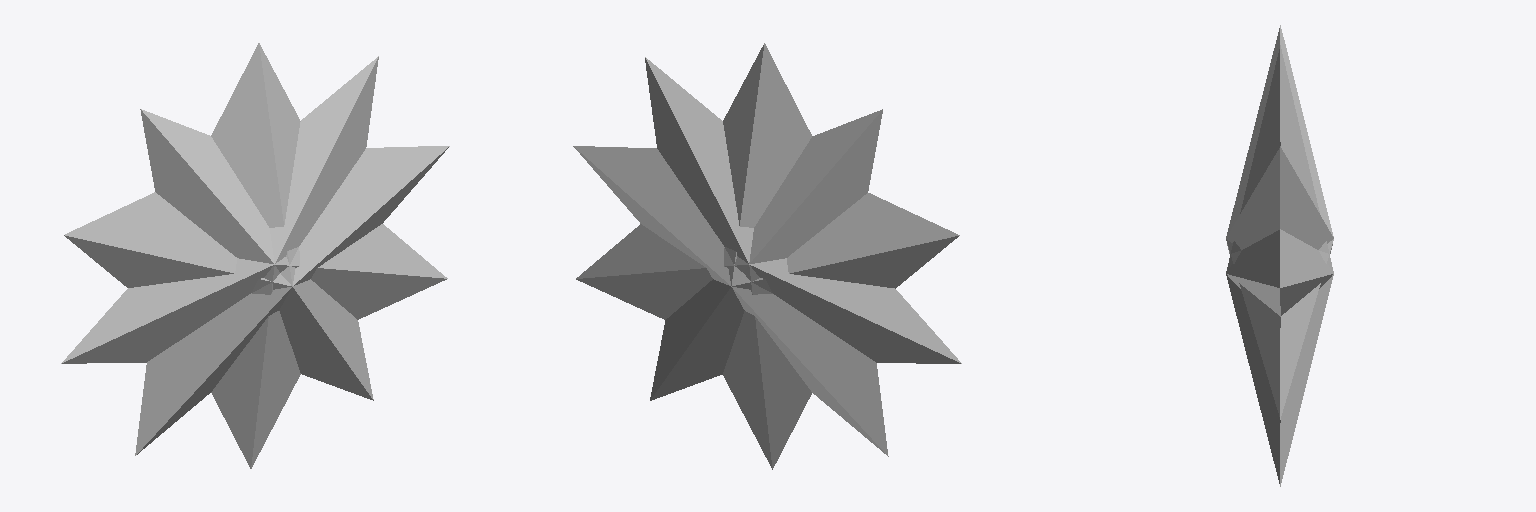
The model's file is DoubleStar.obj.
The picture shows the model from 3 angles: view 1: azimuth 30°, elevation 25°; view 2: azimuth 150°, elevation 25°; view 3: azimuth 270°, elevation 25°; orthographic projection.
Parts seen in each view (by area): view 1: pCylinder1.001; view 2: pCylinder1.001; view 3: pCylinder1.001.
Part boxes in pixels (left/top/right/bottom): pCylinder1.001: left=61, top=43, right=449, bottom=468; pCylinder1.001: left=573, top=43, right=961, bottom=469; pCylinder1.001: left=1226, top=25, right=1333, bottom=486.
Bounding box in the file's own units: 5.32 × 5.55 × 1.28.